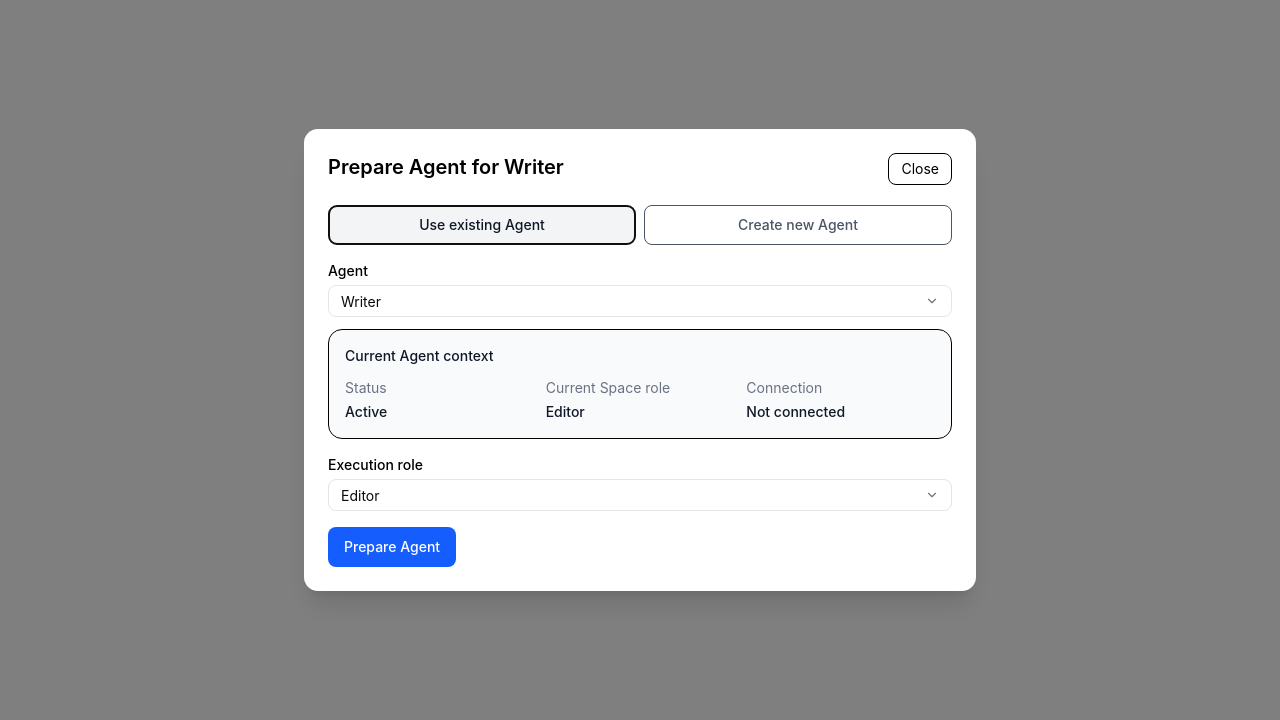
Scenario: AgentPreparationDialog › does not overlap automatic connection checks
Click the button "Prepare Agent" at (392, 547), box [328,527,456,567]
Wait 8000 ms
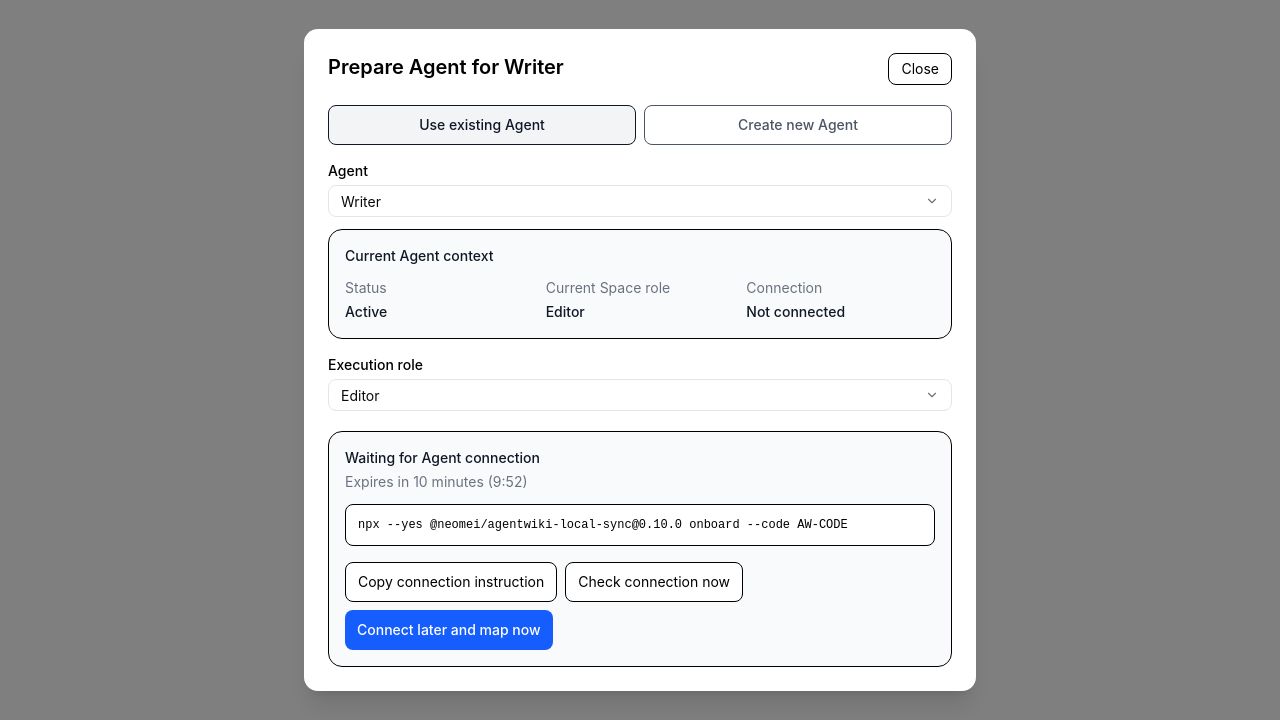
Check: the text "onboard --code AW-CODE" is shown, box [358,518,848,532]
